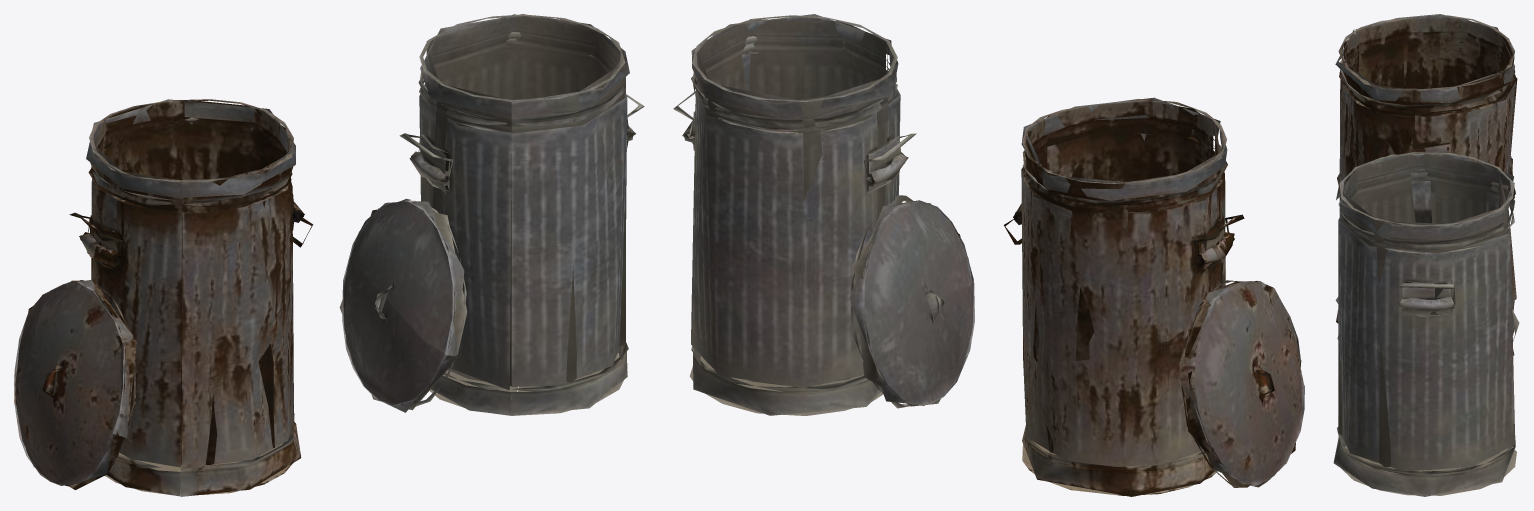
The model's file is ph_metal_trash_can.glb.
3 views of the same model, side by side, from view 1: azimuth 30°, elevation 25°; view 2: azimuth 150°, elevation 25°; view 3: azimuth 270°, elevation 25° (orthographic). The views are drawn at different scales.
Visible parts, largest first — view 1: metal_trash_can_handle_left; view 2: metal_trash_can_handle_left; view 3: metal_trash_can_handle_left.
Part boxes in pixels (bbox=[...]): metal_trash_can_handle_left: bbox=[14, 14, 644, 496]; metal_trash_can_handle_left: bbox=[673, 14, 1304, 496]; metal_trash_can_handle_left: bbox=[1333, 14, 1519, 496].
Bounding box in the file's own units: 1.77 × 0.9068 × 0.5686.
Materials: 3 (3 with a texture image).
